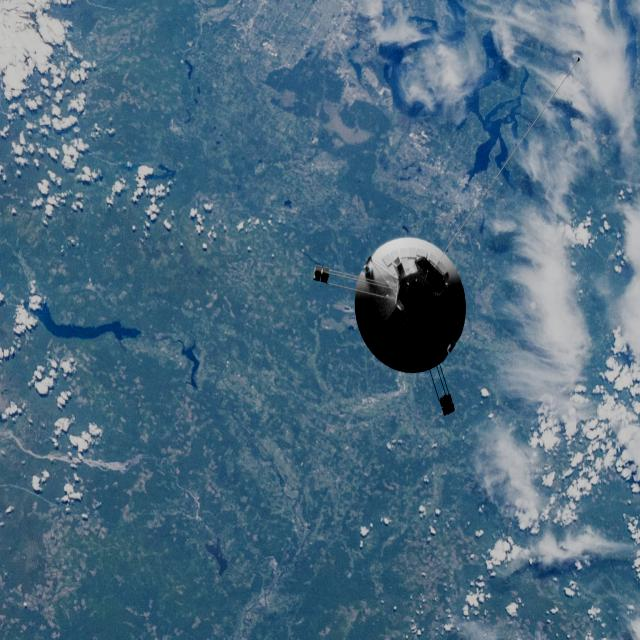satellite: (300, 207, 495, 431)
